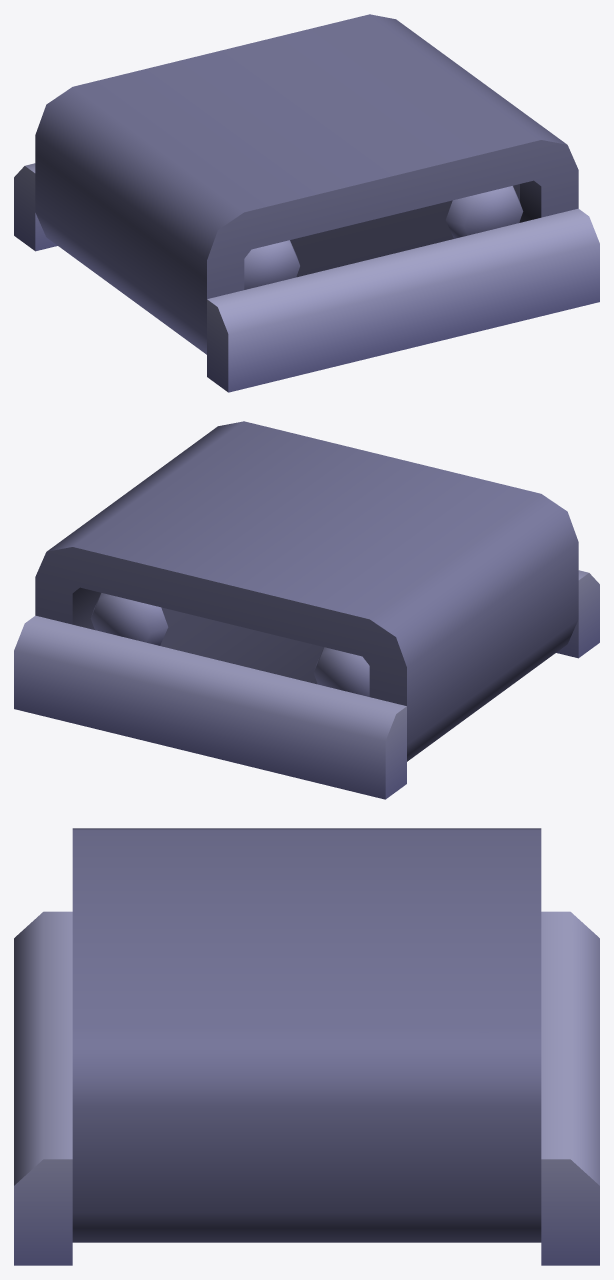
File: conveyor-sides.fbx
3 renders of one model, top to bottom at view 1: azimuth 30°, elevation 25°; view 2: azimuth 150°, elevation 25°; view 3: azimuth 270°, elevation 25°, orthographic. The views are drawn at different scales.
Visible parts, largest first — view 1: conveyor-sides; view 2: conveyor-sides; view 3: conveyor-sides.
Part boxes in pixels (left/top/right/bottom): conveyor-sides: left=14, top=14, right=599, bottom=392; conveyor-sides: left=14, top=421, right=599, bottom=799; conveyor-sides: left=14, top=828, right=599, bottom=1265.
Bounding box in the file's own units: 100 × 40 × 100.
Materials: 1 (1 with a texture image).
